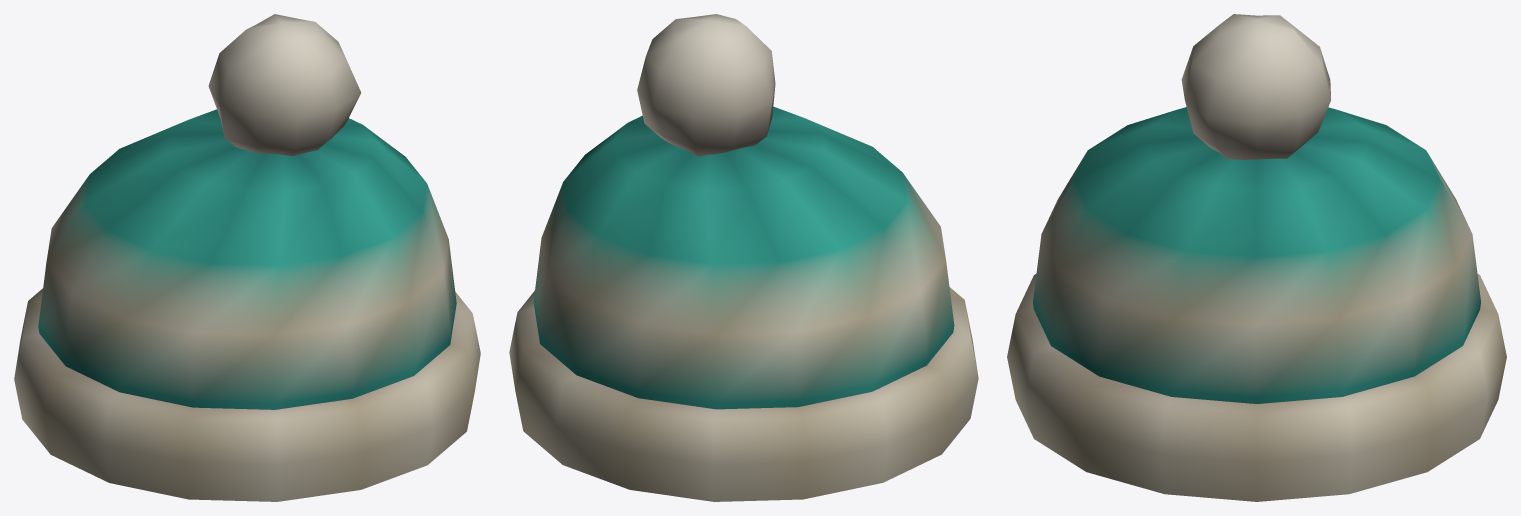
The model's file is beanie.glb.
3 renders of one model, left to right at view 1: azimuth 30°, elevation 25°; view 2: azimuth 150°, elevation 25°; view 3: azimuth 270°, elevation 25°, orthographic. The views are drawn at different scales.
Parts seen in each view (by area): view 1: beanie; view 2: beanie; view 3: beanie.
Part boxes in pixels (bbox=[...]): beanie: bbox=[14, 14, 480, 501]; beanie: bbox=[509, 14, 978, 501]; beanie: bbox=[1007, 14, 1506, 501].
Bounding box in the file's own units: 0.232 × 0.206 × 0.232.
